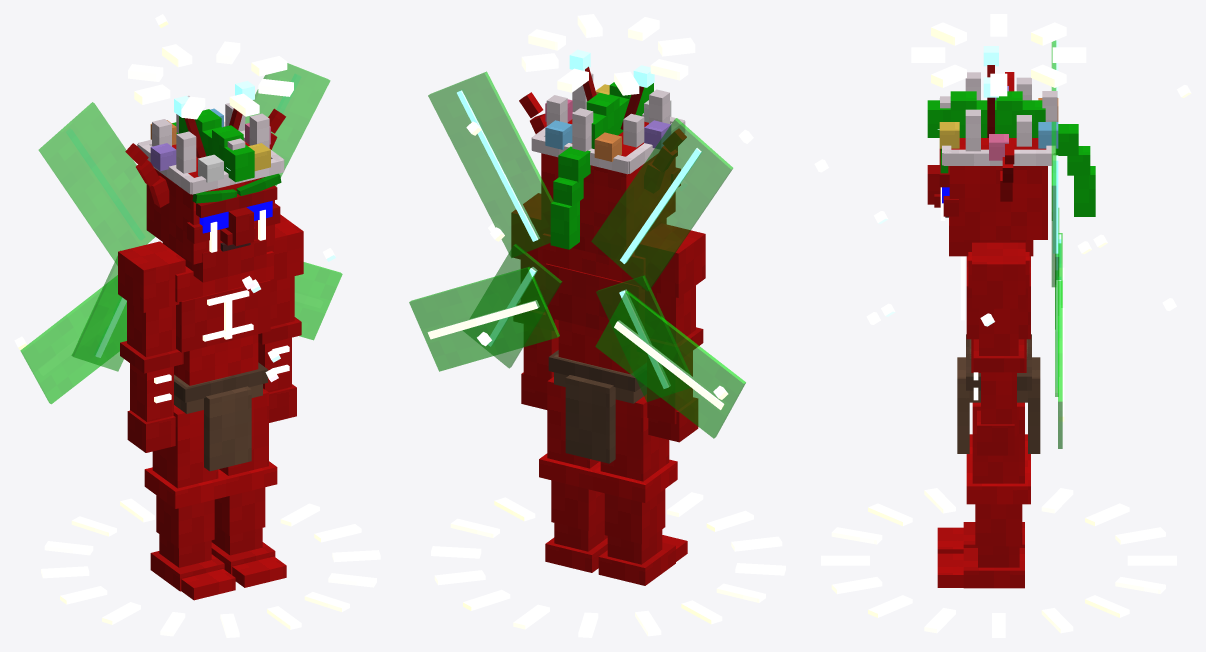
File: fairy_s2_evo3.glb
The picture shows the model from 3 angles, left to right: view 1: azimuth 30°, elevation 25°; view 2: azimuth 150°, elevation 25°; view 3: azimuth 270°, elevation 25°; orthographic projection. The views are drawn at different scales.
Parts seen in each view (by area): view 1: Torso, Head, ArmR, LegR, LegL, Root, ArmL; view 2: Torso, Head, LegR, ArmR, LegL, Root, ArmL; view 3: Head, ArmL, Torso, LegL, Root, LegR.
Boxes of the visible parts, x1,y1,x2,y2 form: Torso: [14, 14, 342, 471]; Head: [125, 41, 293, 282]; ArmR: [118, 241, 185, 452]; LegR: [144, 405, 235, 600]; LegL: [211, 388, 286, 587]; Root: [41, 498, 380, 637]; ArmL: [258, 214, 303, 422]; Torso: [409, 71, 753, 463]; Head: [519, 14, 695, 259]; LegR: [592, 394, 687, 585]; ArmR: [634, 223, 705, 442]; LegL: [539, 377, 607, 572]; Root: [431, 492, 785, 637]; ArmL: [511, 193, 558, 409]; Head: [911, 14, 1095, 256]; ArmL: [972, 242, 1025, 455]; Torso: [814, 40, 1191, 453]; LegL: [937, 402, 1030, 588]; Root: [821, 488, 1176, 637]; LegR: [937, 434, 1030, 553].
Bounding box in the file's own units: 0.7806 × 1.14 × 0.7622.
34 materials, 34 textured.
